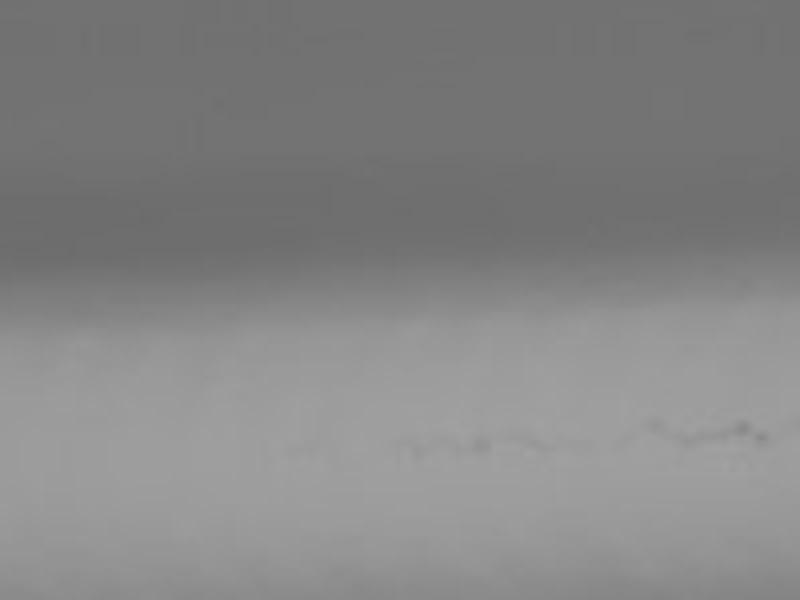defect: (696, 421, 729, 444), (638, 413, 664, 440), (465, 431, 492, 455), (670, 430, 694, 455), (727, 417, 748, 441), (752, 425, 770, 449)
